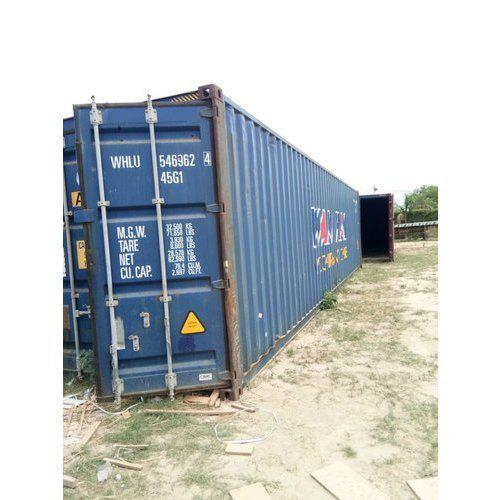ContainerNum: (108, 149, 213, 186)
